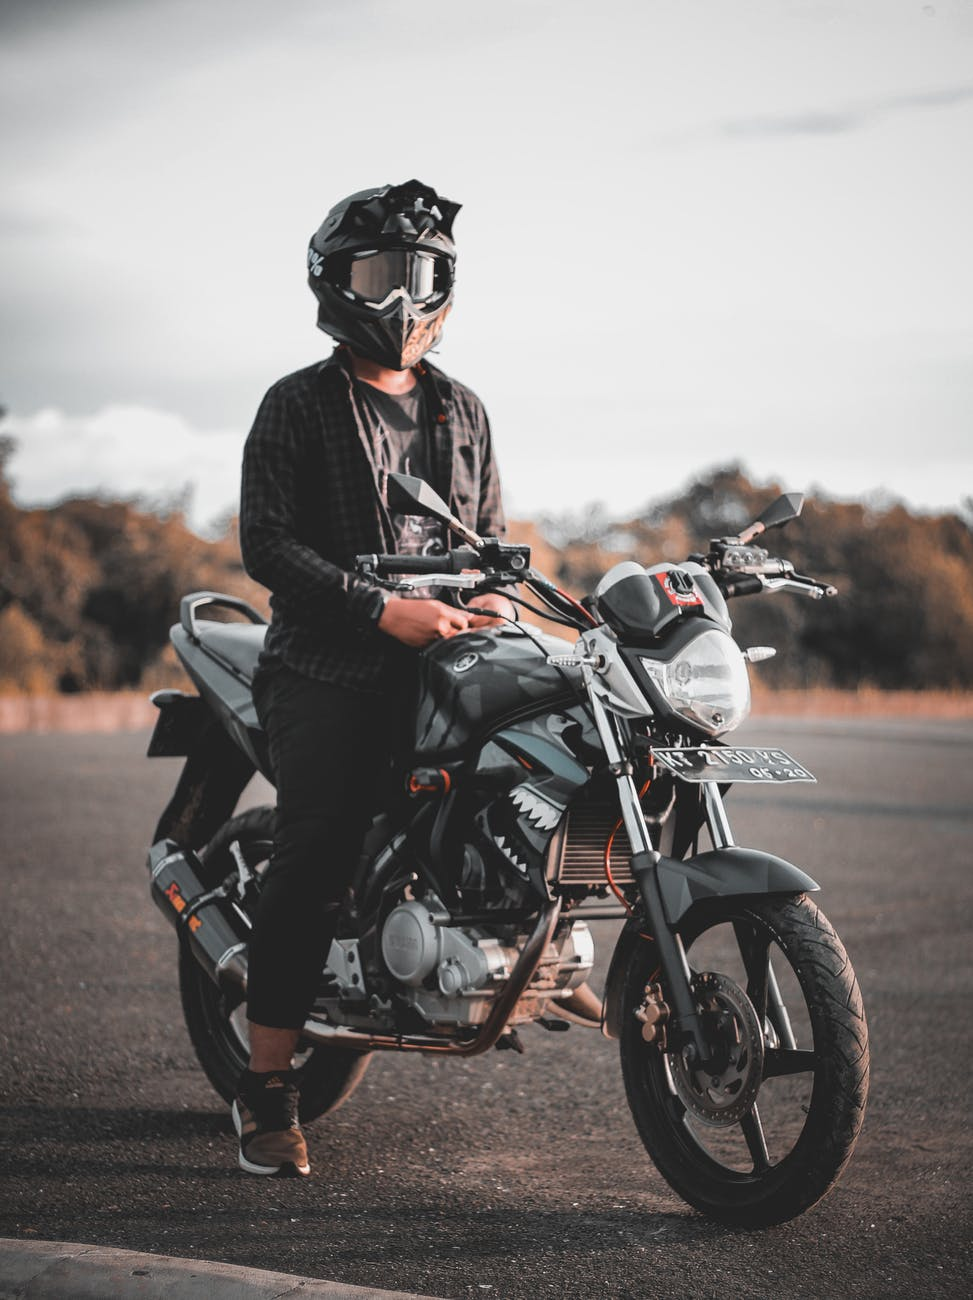helmet: (302, 159, 469, 363)
